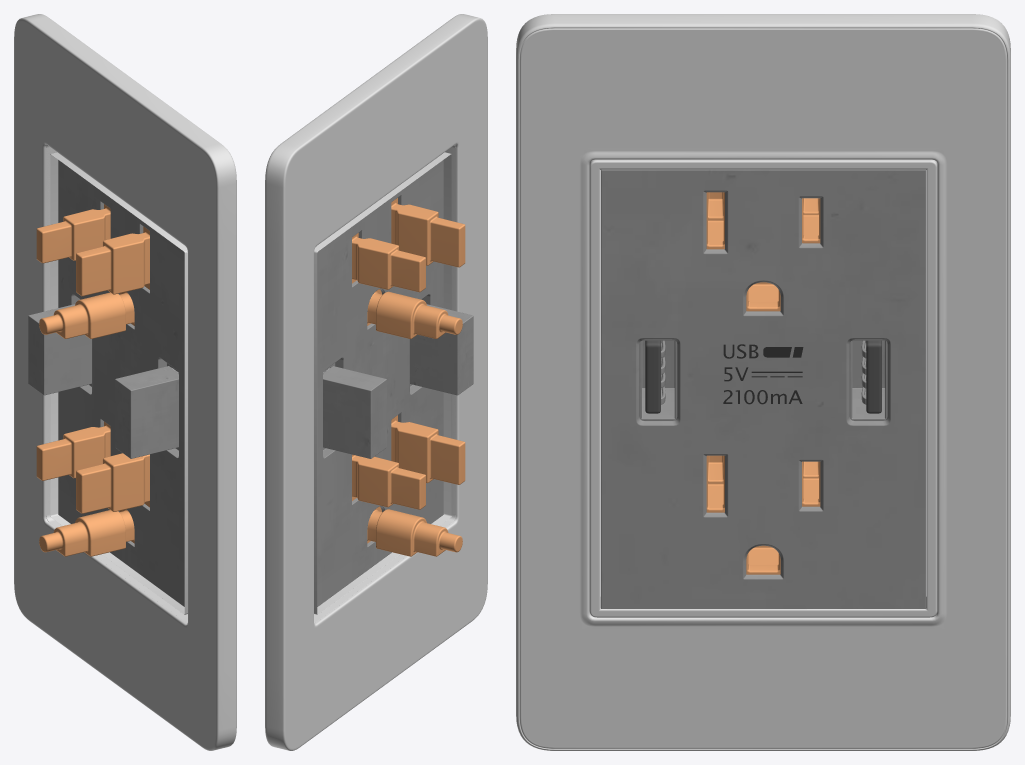
File: socket.glb
The picture shows the model from 3 angles, left to right: view 1: azimuth 30°, elevation 25°; view 2: azimuth 150°, elevation 25°; view 3: azimuth 270°, elevation 25°; orthographic projection. The views are drawn at different scales.
Visible parts, largest first — view 1: body_01_mesh_00_11; view 2: body_01_mesh_00_11; view 3: body_01_mesh_00_11.
Part boxes in pixels (x1,y1,x2,y2): body_01_mesh_00_11: (14, 14, 236, 750); body_01_mesh_00_11: (265, 14, 487, 750); body_01_mesh_00_11: (516, 14, 1010, 750).
Size of the model in its own units: 0.0176 by 0.1067 by 0.0658.
6 materials, 3 textured.
